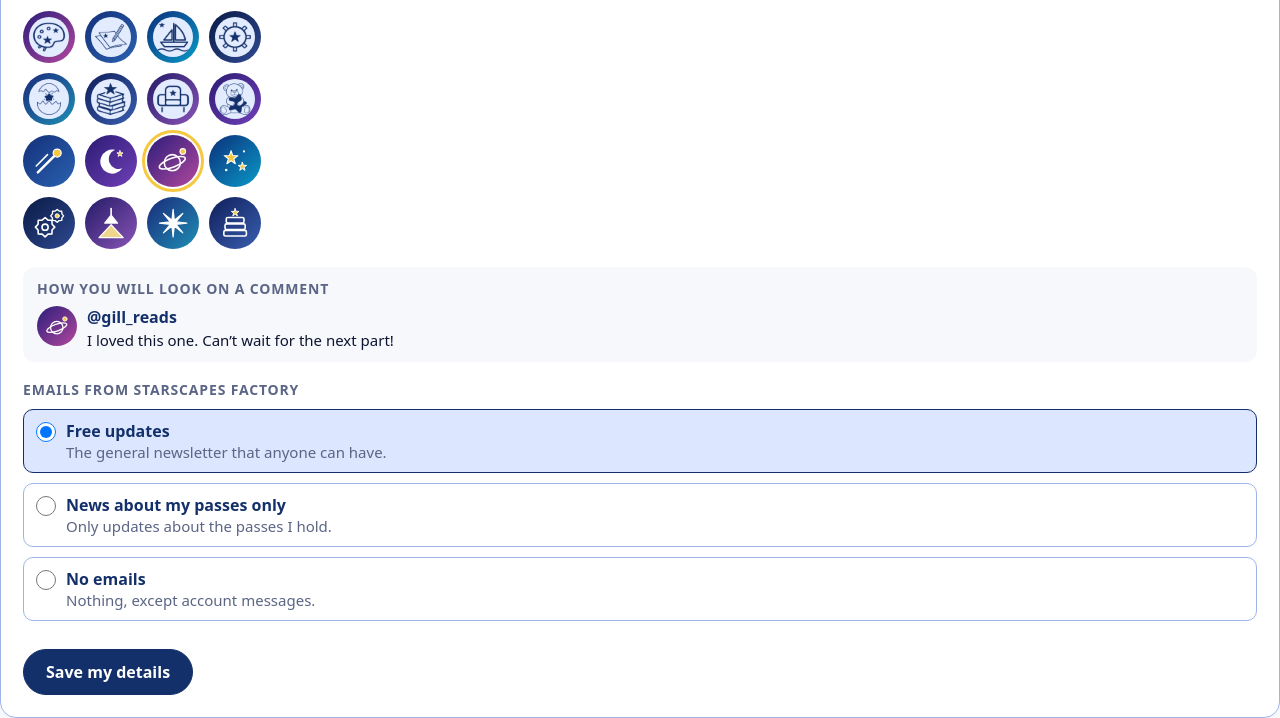
Scenario: saving › says so under the username when someone already has it
(page scrolled)
Click the button "Save my details" at coordinates (108, 672), box [23,649,193,695]
(page scrolled)
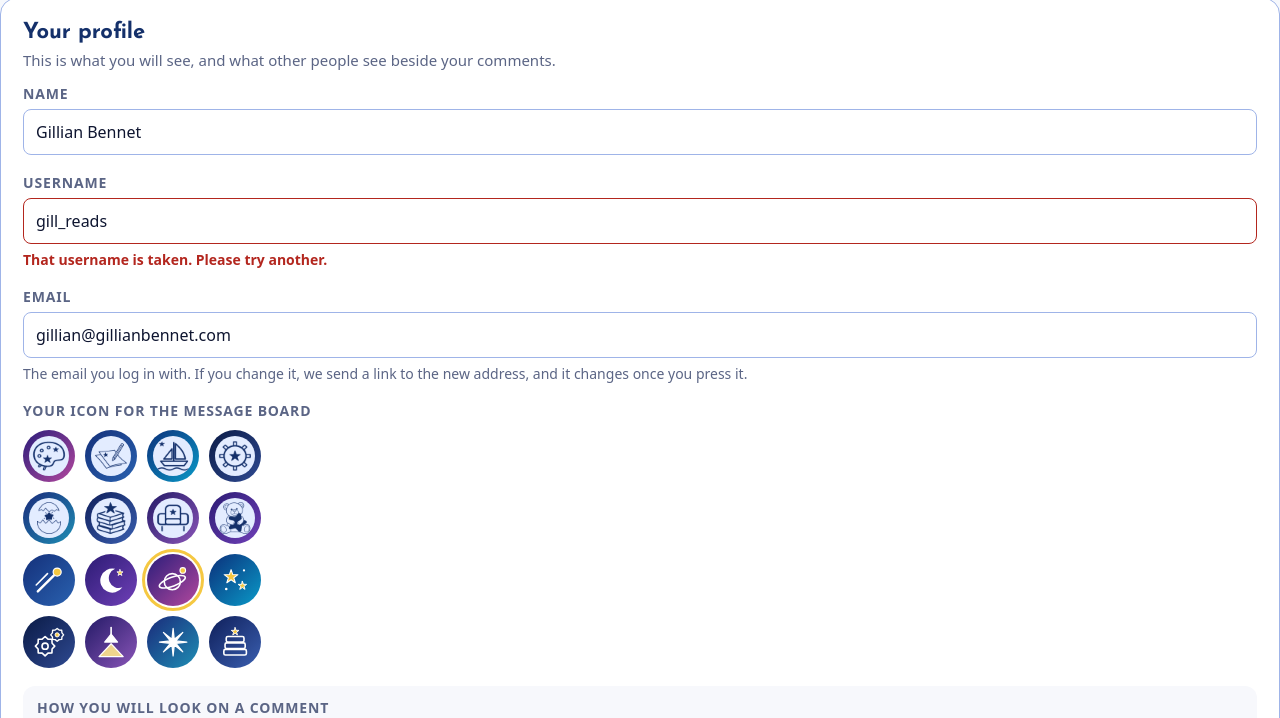
expect the message reads "That username is taken. Please try another.": met, box [23,250,327,269]
